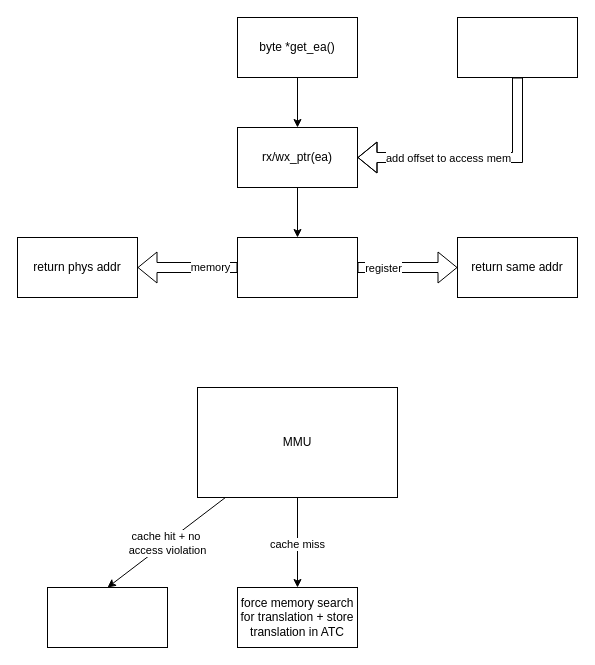
Image size: 595x665. Some labels were removed from this diagram. Each missing label, with the centre of its shape:
mmu(ea): point 297,267
output physical addr + function codes: point 107,617
rx/wx_mem(): point 517,47
